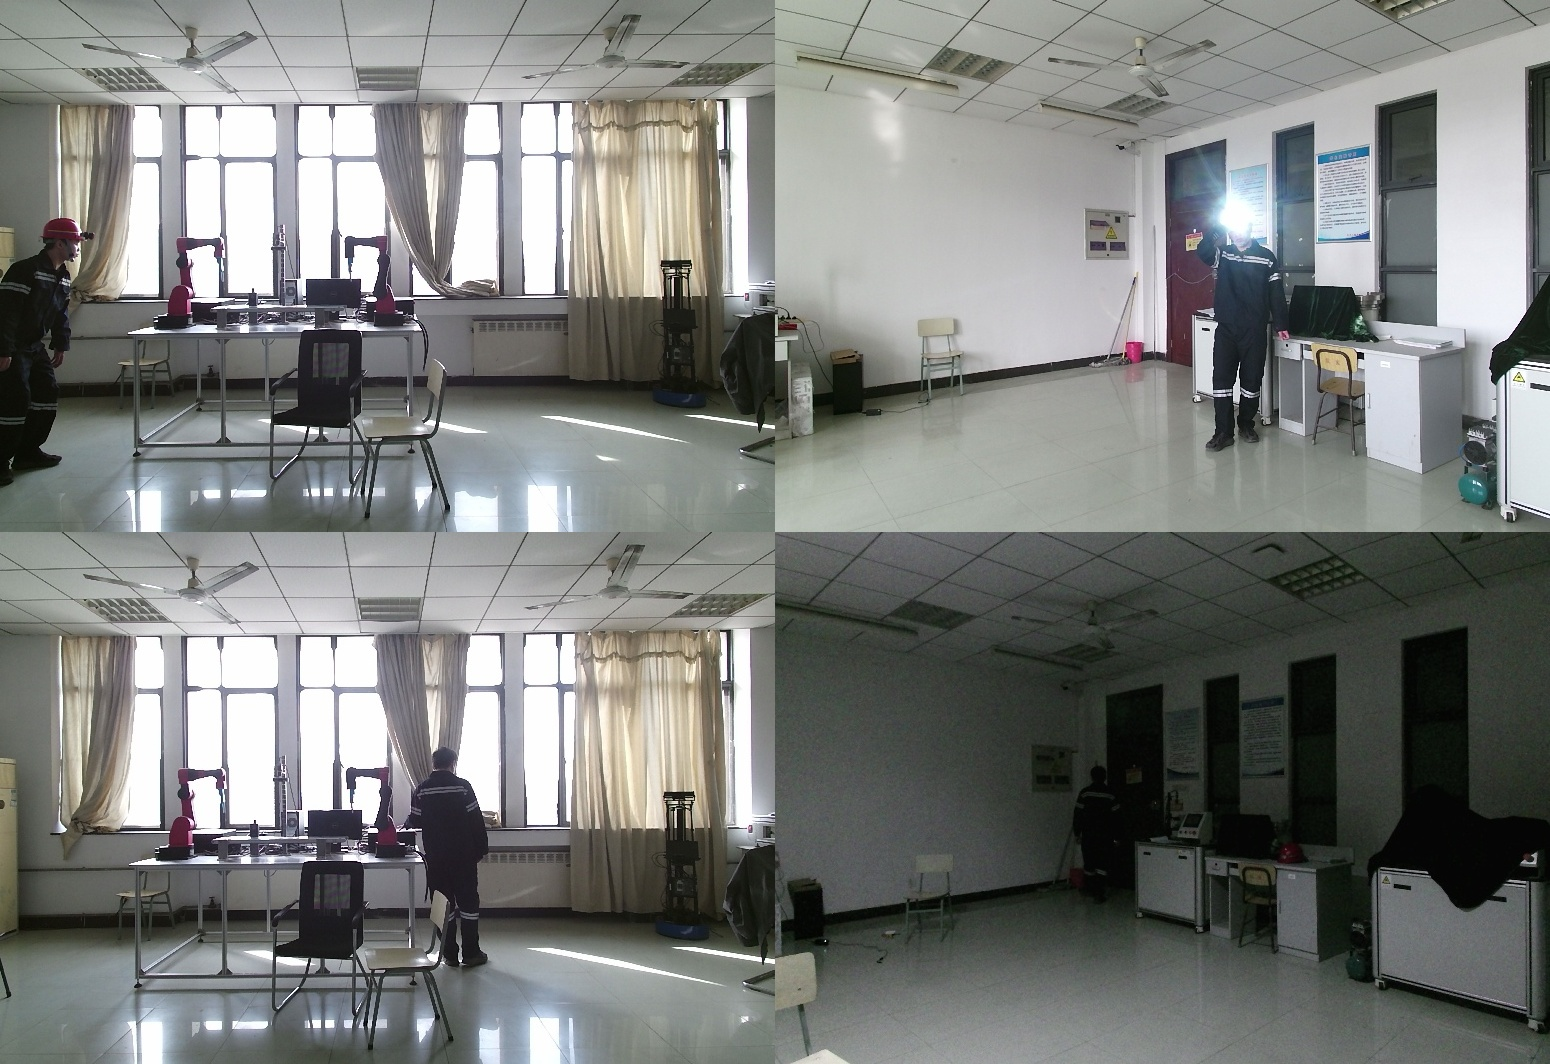person: (1, 220, 99, 486), (1197, 205, 1297, 451), (403, 746, 495, 969), (1070, 767, 1127, 908)
